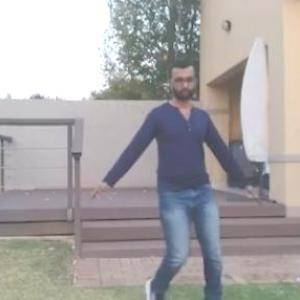land: (100, 68, 243, 299)
